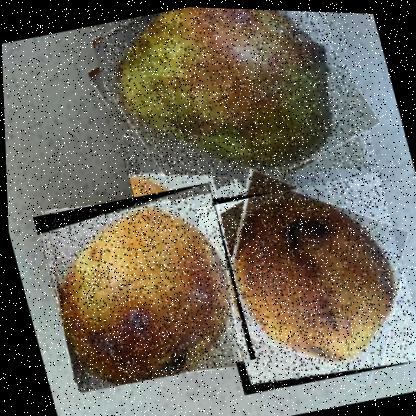guava_rotten: (86, 3, 386, 237), (191, 163, 415, 400), (29, 175, 254, 398)
